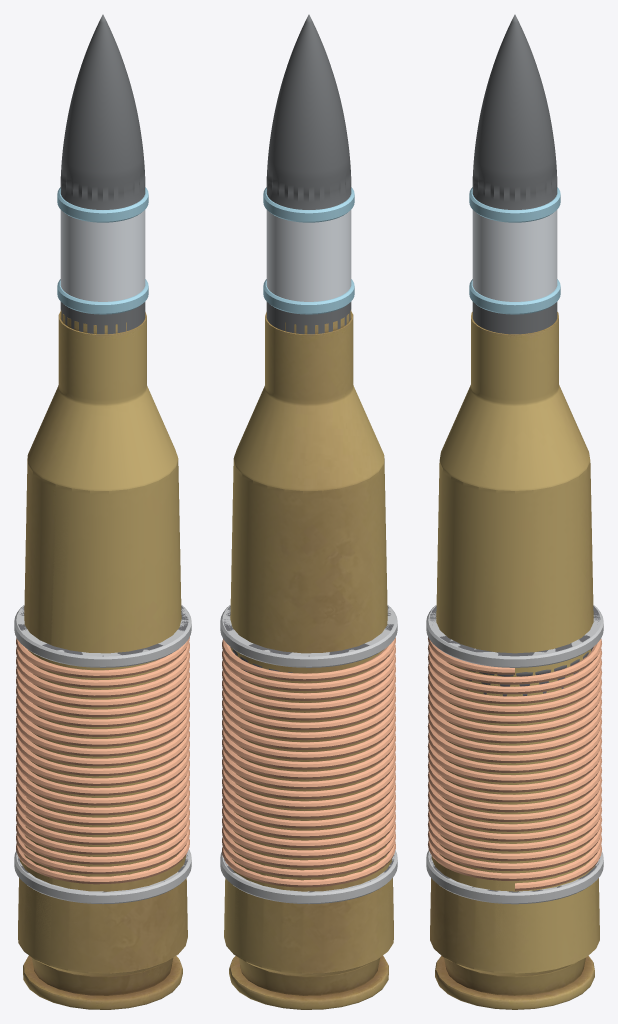
The model's file is electric_round.glb.
The picture shows the model from 3 angles, left to right: view 1: azimuth 30°, elevation 25°; view 2: azimuth 150°, elevation 25°; view 3: azimuth 270°, elevation 25°; orthographic projection.
Visible parts, largest first — view 1: CaseHigh, Coil, CaseWhole, CaseLow, Nose, CaseMid, Window, RingHigh, RingLow, Reactor, RingBlueHigh, RingBlueLow (+1 smaller); view 2: CaseHigh, Coil, CaseWhole, CaseLow, Nose, CaseMid, Window, RingHigh, RingLow, Reactor, RingBlueHigh, RingBlueLow (+1 smaller); view 3: CaseHigh, Coil, CaseWhole, CaseLow, Nose, CaseMid, Window, RingHigh, RingLow, Reactor, Spool, RingBlueHigh (+1 smaller).
Part boxes in pixels (<box>): CaseHigh: <box>26,310,181,653</box>; Coil: <box>16,637,189,884</box>; CaseWhole: <box>18,463,187,970</box>; CaseLow: <box>18,878,187,1009</box>; Nose: <box>60,14,145,209</box>; CaseMid: <box>20,650,186,891</box>; Window: <box>60,210,145,301</box>; RingHigh: <box>14,605,191,667</box>; RingLow: <box>14,849,191,904</box>; Reactor: <box>60,302,145,334</box>; RingBlueHigh: <box>57,187,148,222</box>; RingBlueLow: <box>57,279,148,314</box>; CaseHigh: <box>230,310,387,653</box>; Coil: <box>222,637,395,887</box>; CaseWhole: <box>224,466,393,970</box>; CaseLow: <box>224,878,393,1009</box>; Nose: <box>266,14,351,209</box>; CaseMid: <box>232,650,391,891</box>; Window: <box>266,210,351,301</box>; RingHigh: <box>220,605,397,667</box>; RingLow: <box>220,850,397,904</box>; Reactor: <box>266,302,351,334</box>; RingBlueHigh: <box>263,187,354,222</box>; RingBlueLow: <box>263,279,354,314</box>; CaseHigh: <box>436,312,590,653</box>; Coil: <box>427,637,602,890</box>; CaseWhole: <box>430,465,599,970</box>; CaseLow: <box>430,878,599,1009</box>; Nose: <box>472,14,557,209</box>; CaseMid: <box>431,655,585,890</box>; Window: <box>472,210,557,301</box>; RingHigh: <box>426,605,603,667</box>; RingLow: <box>426,850,603,904</box>; Reactor: <box>472,302,557,334</box>; Spool: <box>429,606,600,892</box>; RingBlueHigh: <box>469,187,560,222</box>.
Bounding box in the file's own units: 0.0172 × 0.1028 × 0.0172.
12 materials, 3 textured.
